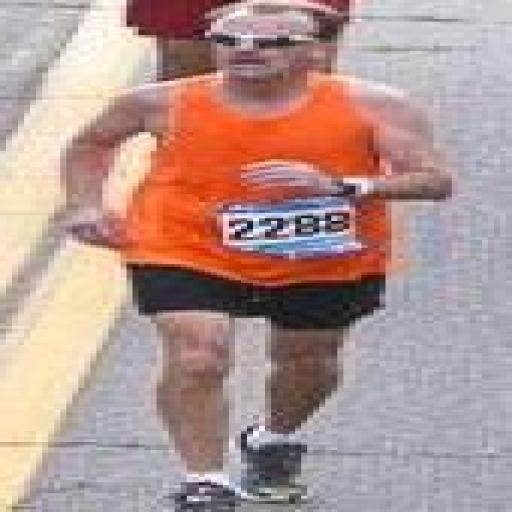person: (61, 3, 451, 511), (127, 0, 234, 80)
